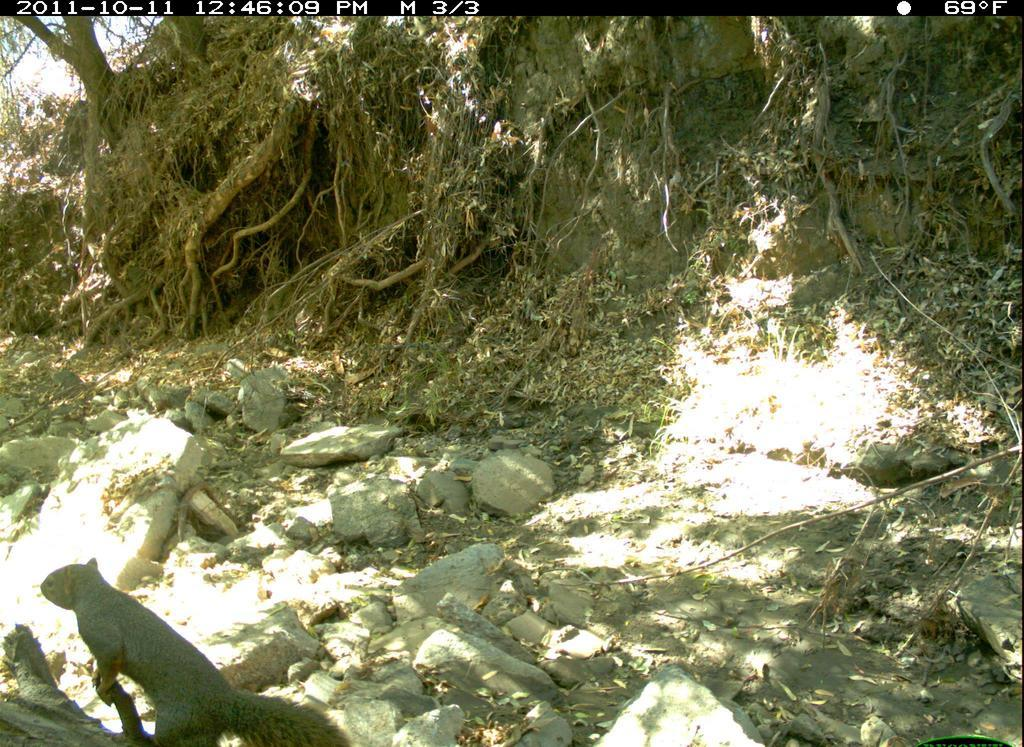squirrel: (34, 551, 361, 747)
